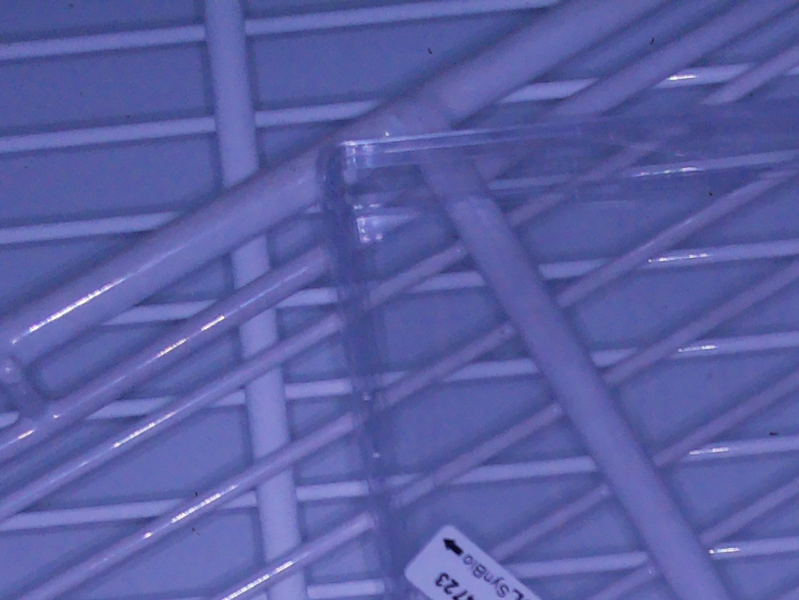plate: (313, 99, 799, 600)
